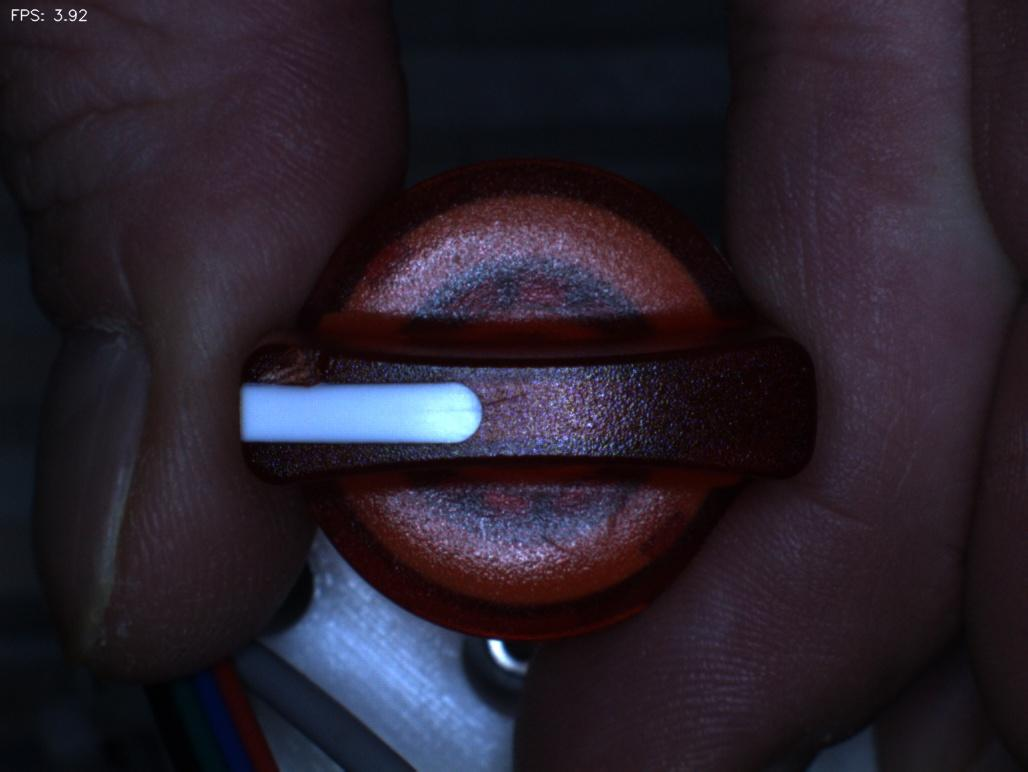Choc: (238, 319, 344, 406)
